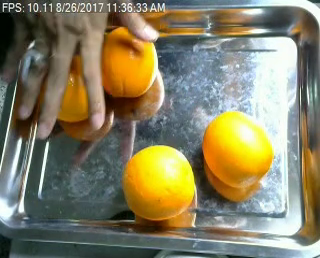Orange: (121, 144, 194, 219), (203, 109, 273, 186)
